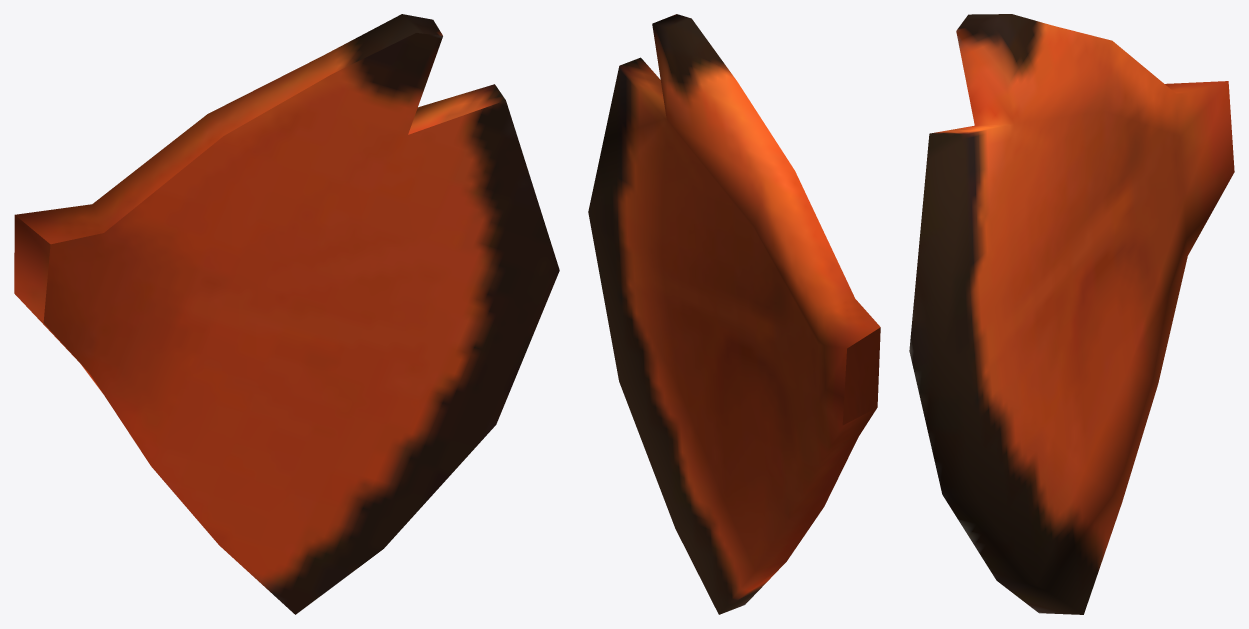
Rendered from aletaPequena.obj.
The picture shows the model from 3 angles, left to right: view 1: azimuth 30°, elevation 25°; view 2: azimuth 150°, elevation 25°; view 3: azimuth 270°, elevation 25°; orthographic projection. The views are drawn at different scales.
Visible parts, largest first — view 1: polySurface34; view 2: polySurface34; view 3: polySurface34.
Boxes of the visible parts, x1,y1,x2,y2 form: polySurface34: (14,14,559,614); polySurface34: (588,14,880,614); polySurface34: (909,14,1234,614).
Bounding box in the file's own units: 0.657 × 0.9028 × 0.4092.
1 material, 1 textured.
